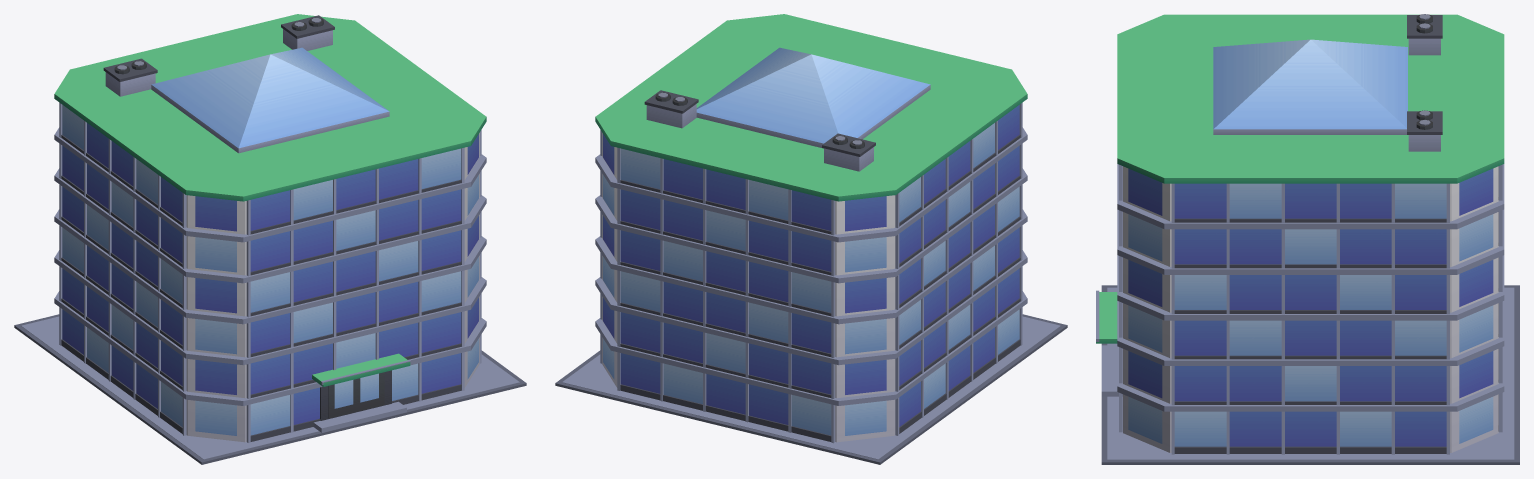
Rendered from off_atrium_cube_2x2.glb.
3 views of the same model, side by side, from view 1: azimuth 30°, elevation 25°; view 2: azimuth 150°, elevation 25°; view 3: azimuth 270°, elevation 25° (orthographic). The views are drawn at different scales.
Visible parts, largest first — view 1: off_atrium_cube_2x2; view 2: off_atrium_cube_2x2; view 3: off_atrium_cube_2x2.
Boxes of the visible parts, x1,y1,x2,y2 form: off_atrium_cube_2x2: (14, 14, 526, 464); off_atrium_cube_2x2: (555, 14, 1067, 464); off_atrium_cube_2x2: (1096, 14, 1519, 464).
Size of the model in its own units: 3.73 by 3.32 by 3.78.
1 material, 1 textured.
